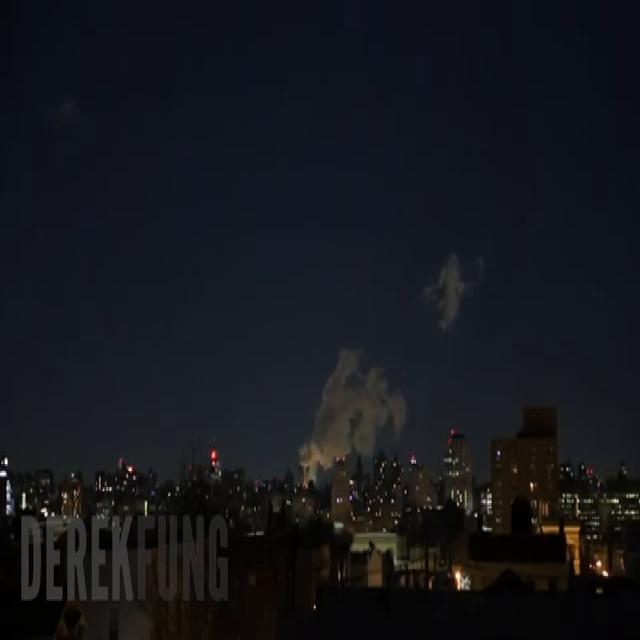smoke: (300, 348, 404, 475)
